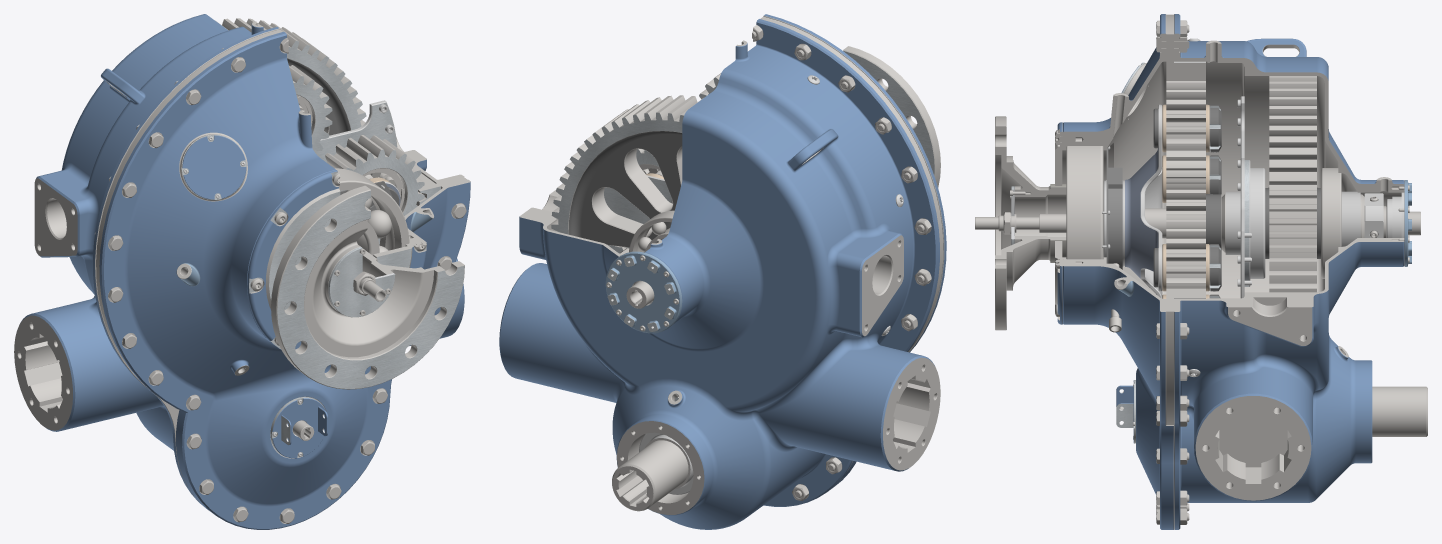
File: gearbox_propeller_turbine.glb
The picture shows the model from 3 angles, left to right: view 1: azimuth 30°, elevation 25°; view 2: azimuth 150°, elevation 25°; view 3: azimuth 270°, elevation 25°; orthographic projection. The views are drawn at different scales.
Parts seen in each view (by area): view 1: Object_175, Object_7, Object_82, Object_178, Object_85, Object_174, Object_8, Object_76, Object_84, Object_179, Object_75, Object_188 (+12 smaller); view 2: Object_7, Object_85, Object_191, Object_83, Object_74, Object_200, Object_188, Object_178, Object_76, Object_82, Object_175, Object_180 (+4 smaller); view 3: Object_7, Object_85, Object_175, Object_83, Object_84, Object_82, Object_75, Object_72, Object_70, Object_74, Object_10, Object_76 (+21 smaller).
Boxes of the visible parts, x1,y1,x2,y2 form: Object_175: (99,31,470,529); Object_7: (20,14,464,509); Object_82: (271,185,464,389); Object_178: (181,135,464,456); Object_85: (14,21,464,510); Object_174: (182,135,426,458); Object_8: (328,247,395,317); Object_76: (96,29,467,376); Object_84: (108,39,470,523); Object_179: (249,171,426,348); Object_75: (335,168,409,250); Object_188: (287,41,366,130); Object_7: (499,19,939,529); Object_85: (519,26,940,514); Object_191: (568,131,682,247); Object_83: (552,95,703,247); Object_74: (612,397,690,511); Object_200: (605,251,682,333); Object_188: (551,112,683,234); Object_178: (763,16,943,351); Object_76: (615,16,943,351); Object_82: (843,46,940,187); Object_175: (764,14,946,488); Object_180: (604,177,671,251); Object_7: (1174,14,1404,529); Object_85: (1174,14,1404,529); Object_175: (1063,14,1173,529); Object_83: (1221,76,1364,292); Object_84: (1063,14,1173,529); Object_82: (995,116,1066,330); Object_75: (1066,146,1103,259); Object_72: (1166,81,1205,183); Object_70: (1166,212,1205,288); Object_74: (1372,386,1427,436); Object_10: (1125,148,1158,278); Object_76: (1166,14,1205,425).
Bounding box in the file's own units: 0.56 × 0.6749 × 0.571.
Materials: 21 (6 with a texture image).
